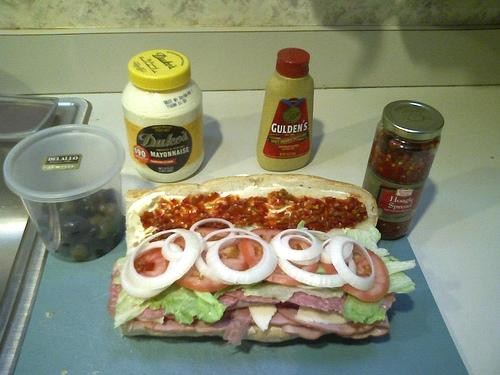lettuce: (150, 282, 226, 324), (242, 280, 344, 304), (115, 288, 163, 330), (342, 294, 386, 324), (386, 256, 416, 294), (386, 260, 416, 276)
onion: (277, 230, 357, 288), (195, 229, 266, 284), (120, 240, 184, 298), (206, 234, 278, 284), (189, 218, 237, 252), (280, 234, 320, 266), (320, 238, 354, 264), (327, 228, 345, 238)
tomato: (166, 227, 249, 292), (241, 228, 319, 285), (319, 242, 390, 302), (134, 248, 169, 276)
